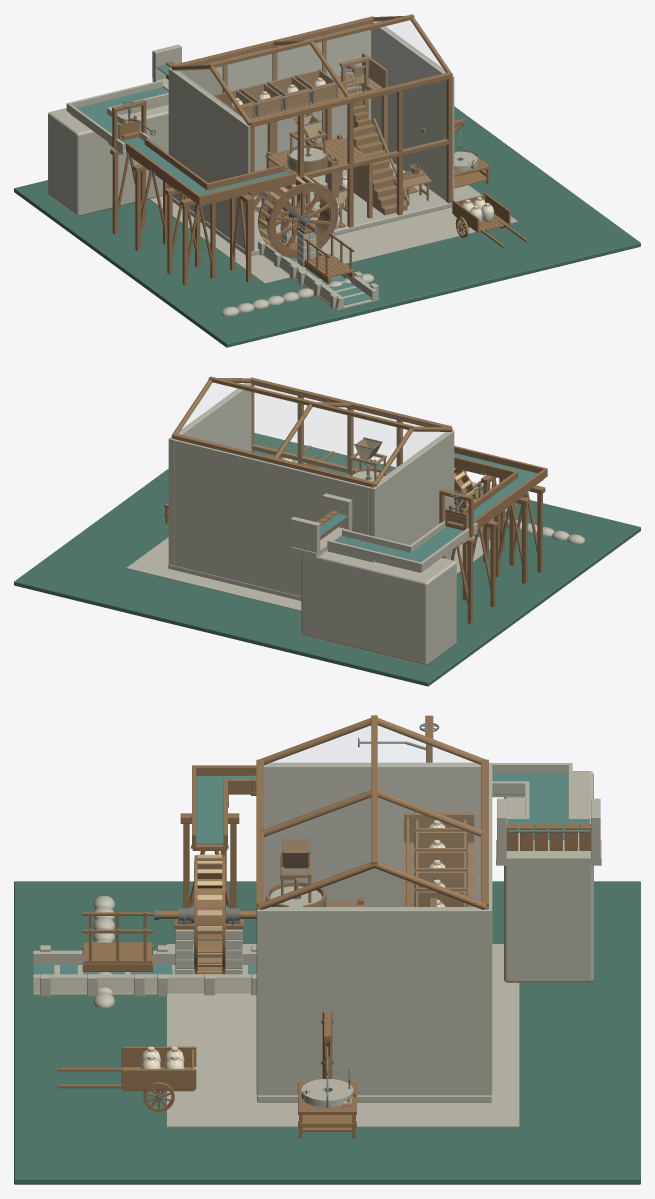
The model's file is millers-m-2dd2481c-starter-scene.glb.
3 views of the same model, one above another, from view 1: azimuth 30°, elevation 25°; view 2: azimuth 150°, elevation 25°; view 3: azimuth 270°, elevation 25° (orthographic). The views are drawn at different scales.
Parts seen in each view (by area): view 1: 000-watermill-landscape-base/1, 001-roofed-watermill-house/1, 001-roofed-watermill-house/0, 000-watermill-landscape-base/0, 002-grain-bin-loft/0, 003-overshot-bucket-waterwheel/0, 058-tailrace-channel/0, 060-grain-delivery-cart/0, 055-launder-support-bent/0, 059-tailrace-footbridge/0, 056-launder-support-bent/0, 053-launder-support-bent/0 (+20 smaller); view 2: 000-watermill-landscape-base/1, 001-roofed-watermill-house/1, 000-watermill-landscape-base/0, 001-roofed-watermill-house/2, 001-roofed-watermill-house/0, 043-millpond-weir/1, 045-leat-corner/0, 054-launder-support-bent/0, 055-launder-support-bent/0, 053-launder-support-bent/0, 050-overhead-launder-elbow/0, 044-leat-straight/0 (+8 smaller); view 3: 000-watermill-landscape-base/1, 001-roofed-watermill-house/1, 000-watermill-landscape-base/0, 001-roofed-watermill-house/0, 002-grain-bin-loft/0, 001-roofed-watermill-house/2, 060-grain-delivery-cart/0, 058-tailrace-channel/0, 059-tailrace-footbridge/0, 057-tailrace-channel/0, 003-overshot-bucket-waterwheel/0, 043-millpond-weir/1 (+16 smaller).
Part boxes in pixels (x1,y1,x2,y2): 000-watermill-landscape-base/1: (14,106,640,347); 001-roofed-watermill-house/1: (168,21,454,255); 001-roofed-watermill-house/0: (171,14,452,251); 000-watermill-landscape-base/0: (48,104,517,316); 002-grain-bin-loft/0: (213,53,387,183); 003-overshot-bucket-waterwheel/0: (258,175,338,258); 058-tailrace-channel/0: (297,260,379,310); 060-grain-delivery-cart/0: (452,192,527,247); 055-launder-support-bent/0: (180,198,215,285); 059-tailrace-footbridge/0: (304,232,354,284); 056-launder-support-bent/0: (230,194,253,282); 053-launder-support-bent/0: (133,164,168,250); 000-watermill-landscape-base/1: (14,433,640,686); 001-roofed-watermill-house/1: (168,383,454,600); 000-watermill-landscape-base/0: (126,510,585,665); 001-roofed-watermill-house/2: (179,383,444,474); 001-roofed-watermill-house/0: (171,376,452,487); 043-millpond-weir/1: (290,493,352,558); 045-leat-corner/0: (372,527,463,572); 054-launder-support-bent/0: (494,497,529,583); 055-launder-support-bent/0: (509,485,545,572); 053-launder-support-bent/0: (462,520,498,607); 050-overhead-launder-elbow/0: (484,455,547,491); 044-leat-straight/0: (327,529,388,562); 000-watermill-landscape-base/1: (14,881,640,1184); 001-roofed-watermill-house/1: (257,762,492,1102); 000-watermill-landscape-base/0: (93,771,593,1127); 001-roofed-watermill-house/0: (256,715,488,1093); 002-grain-bin-loft/0: (404,812,474,906); 001-roofed-watermill-house/2: (266,726,478,764); 060-grain-delivery-cart/0: (58,1046,196,1111); 058-tailrace-channel/0: (33,945,150,996); 059-tailrace-footbridge/0: (82,911,153,971); 057-tailrace-channel/0: (151,945,256,996); 003-overshot-bucket-waterwheel/0: (194,855,225,974); 043-millpond-weir/1: (496,798,601,865).
Size of the model in its own units: 18 by 7.15 by 16.
